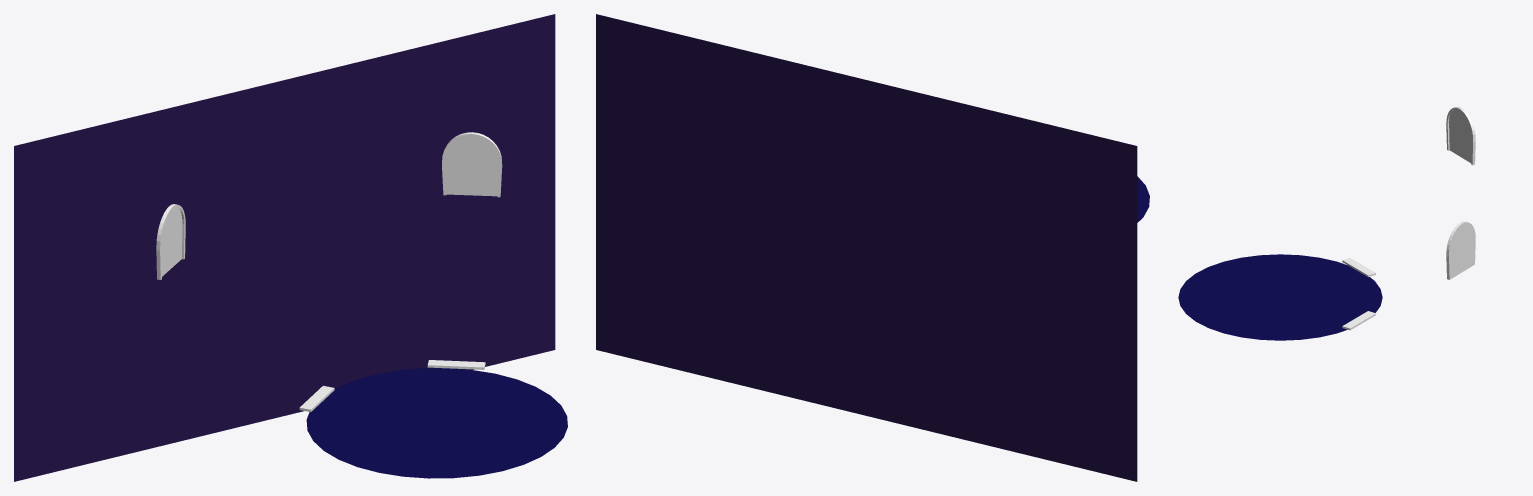
File: room_stairs.gltf
3 views of the same model, side by side, from view 1: azimuth 30°, elevation 25°; view 2: azimuth 150°, elevation 25°; view 3: azimuth 270°, elevation 25° (orthographic). The views are drawn at different scales.
Visible parts, largest first — view 1: FOND, Circle, PORTE gauche, PORTE.droite, socle.001, PORTE.droite.001, socle; view 2: FOND; view 3: Circle, PORTE.droite, PORTE gauche, PORTE gauche.001, PORTE.droite.001, socle.001, socle.
Boxes of the visible parts, x1,y1,x2,y2 form: FOND: [14, 14, 555, 481]; Circle: [306, 368, 567, 478]; PORTE gauche: [445, 135, 471, 195]; PORTE.droite: [472, 135, 498, 196]; socle.001: [156, 204, 185, 279]; PORTE.droite.001: [171, 206, 182, 268]; socle: [442, 132, 502, 197]; FOND: [596, 14, 1137, 481]; Circle: [1178, 254, 1382, 340]; PORTE.droite: [1450, 225, 1462, 278]; PORTE gauche: [1462, 223, 1474, 271]; PORTE gauche.001: [1449, 109, 1460, 156]; PORTE.droite.001: [1461, 111, 1471, 162]; socle.001: [1446, 107, 1475, 165]; socle: [1446, 221, 1475, 279].
Bounding box in the file's own units: 9.42 × 5.59 × 6.58.
